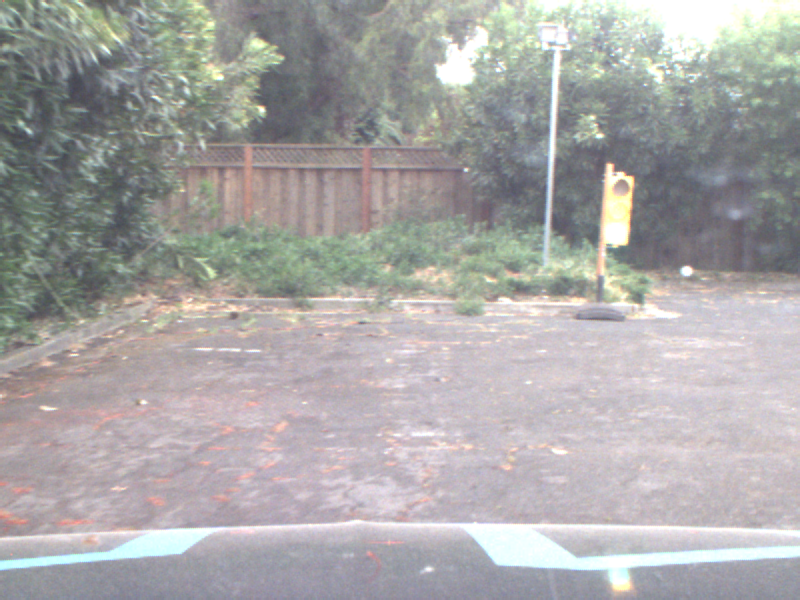Green: (602, 173, 628, 245)
